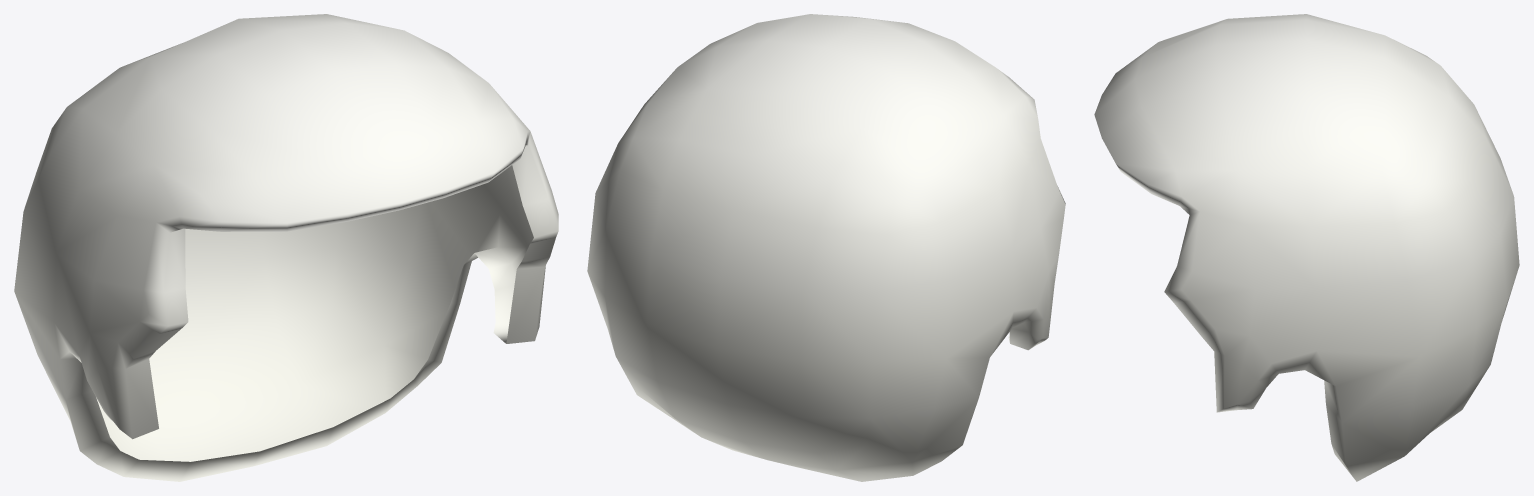
Rendered from Hair_White_1.fbx.
The picture shows the model from 3 angles, left to right: view 1: azimuth 30°, elevation 25°; view 2: azimuth 150°, elevation 25°; view 3: azimuth 270°, elevation 25°; orthographic projection. The views are drawn at different scales.
Parts seen in each view (by area): view 1: Hair_White_1; view 2: Hair_White_1; view 3: Hair_White_1.
Part boxes in pixels (left/top/right/bottom): Hair_White_1: left=14, top=14, right=558, bottom=481; Hair_White_1: left=587, top=14, right=1065, bottom=481; Hair_White_1: left=1094, top=14, right=1519, bottom=481.
Bounding box in the file's own units: 52.84 × 51.31 × 48.92.
